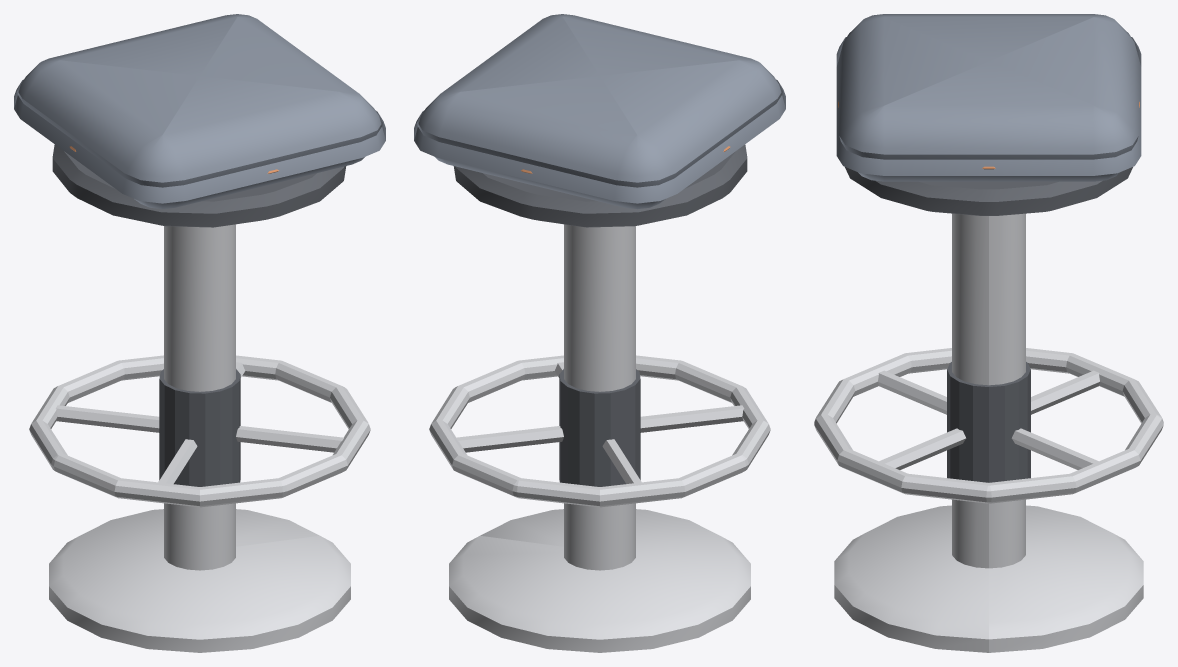
The model's file is downtown-office-interiors-high-stool-a4aaa740__16994.glb.
3 renders of one model, left to right at view 1: azimuth 30°, elevation 25°; view 2: azimuth 150°, elevation 25°; view 3: azimuth 270°, elevation 25°, orthographic. The views are drawn at different scales.
Parts seen in each view (by area): view 1: high-stool; view 2: high-stool; view 3: high-stool.
Boxes of the visible parts, x1,y1,x2,y2 form: high-stool: (14,14,385,652); high-stool: (414,14,785,652); high-stool: (814,14,1163,652).
Bounding box in the file's own units: 0.467 × 0.774 × 0.467.
